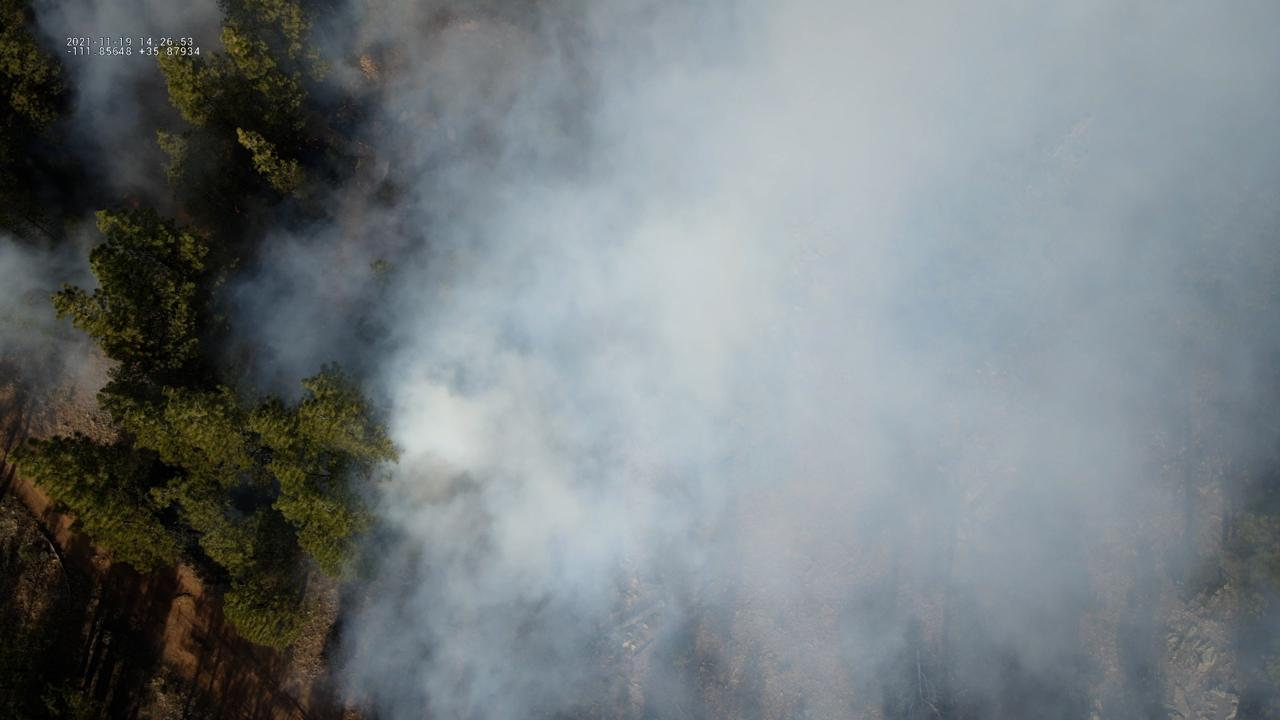fire: (119, 191, 141, 210)
smoke: (231, 0, 1280, 720), (0, 0, 229, 404)
